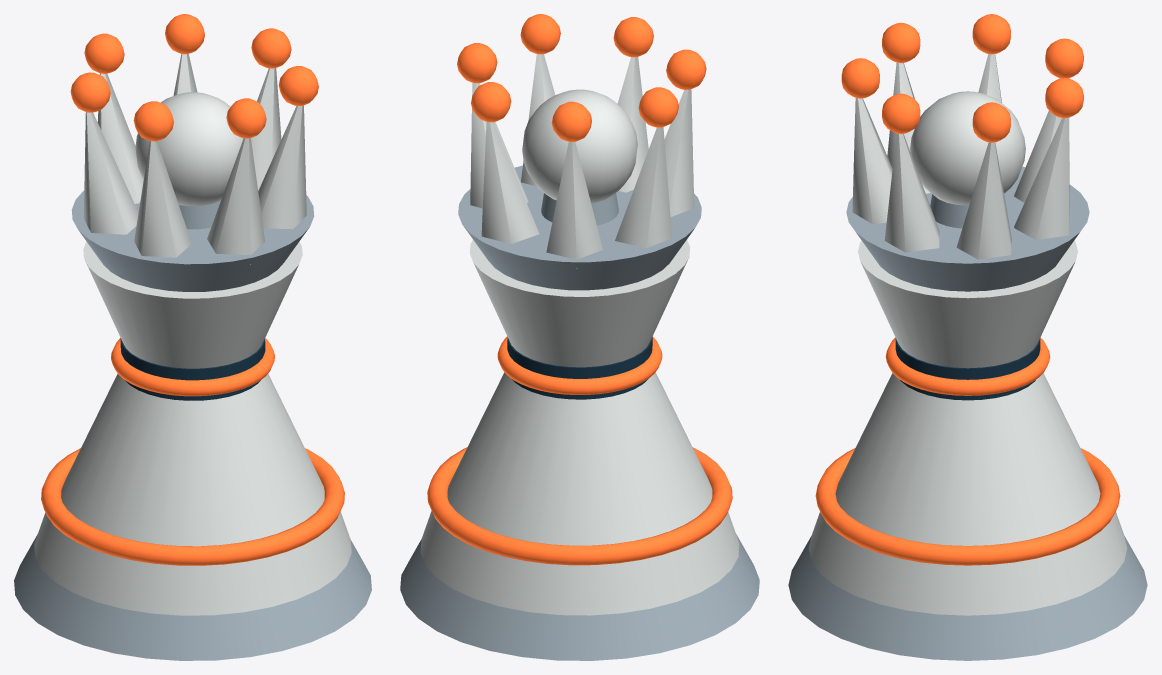
Rendered from queen.glb.
3 views of the same model, side by side, from view 1: azimuth 30°, elevation 25°; view 2: azimuth 150°, elevation 25°; view 3: azimuth 270°, elevation 25° (orthographic).
Visible parts, largest first — view 1: stem, body (×2), foot, mount, power_collar, crown_heart, crown_5, crown_0, crown_1, crown_6, power_neck, neck (+11 smaller); view 2: stem, body (×2), foot, mount, power_collar, crown_heart, crown_3, crown_5, crown_4, power_neck, crown_6, neck (+11 smaller); view 3: stem, body (×2), foot, mount, power_collar, crown_heart, crown_3, crown_1, crown_2, crown_0, power_neck, neck (+11 smaller).
Boxes of the visible parts, bbox=[...] form: stem: bbox=[61, 374, 324, 546]; body (×2): bbox=[71, 190, 314, 368]; foot: bbox=[14, 534, 371, 660]; mount: bbox=[34, 511, 351, 615]; power_collar: bbox=[41, 448, 344, 565]; crown_heart: bbox=[135, 92, 243, 206]; crown_5: bbox=[83, 112, 138, 234]; crown_0: bbox=[207, 138, 265, 264]; crown_1: bbox=[258, 105, 306, 229]; crown_6: bbox=[134, 141, 191, 257]; power_neck: bbox=[111, 338, 274, 396]; neck: bbox=[120, 338, 265, 400]; stem: bbox=[447, 372, 712, 545]; body (×2): bbox=[458, 165, 701, 367]; foot: bbox=[400, 534, 759, 660]; mount: bbox=[420, 511, 739, 615]; power_collar: bbox=[427, 447, 732, 565]; crown_heart: bbox=[522, 89, 637, 203]; crown_3: bbox=[481, 122, 539, 245]; crown_5: bbox=[615, 127, 672, 247]; crown_4: bbox=[546, 142, 602, 268]; power_neck: bbox=[497, 336, 662, 394]; crown_6: bbox=[664, 89, 694, 216]; neck: bbox=[507, 337, 652, 399]; stem: bbox=[835, 373, 1100, 545]; body (×2): bbox=[846, 166, 1089, 368]; foot: bbox=[788, 536, 1147, 660]; mount: bbox=[808, 512, 1127, 615]; power_collar: bbox=[815, 448, 1120, 565]; crown_heart: bbox=[910, 91, 1025, 205]; crown_3: bbox=[1014, 117, 1069, 244]; crown_1: bbox=[884, 133, 939, 252]; crown_2: bbox=[956, 142, 1011, 259]; crown_0: bbox=[852, 98, 892, 224]; power_neck: bbox=[885, 337, 1050, 395]; neck: bbox=[895, 338, 1040, 400].
Bounding box in the file's own units: 0.62 × 1 × 0.62.
